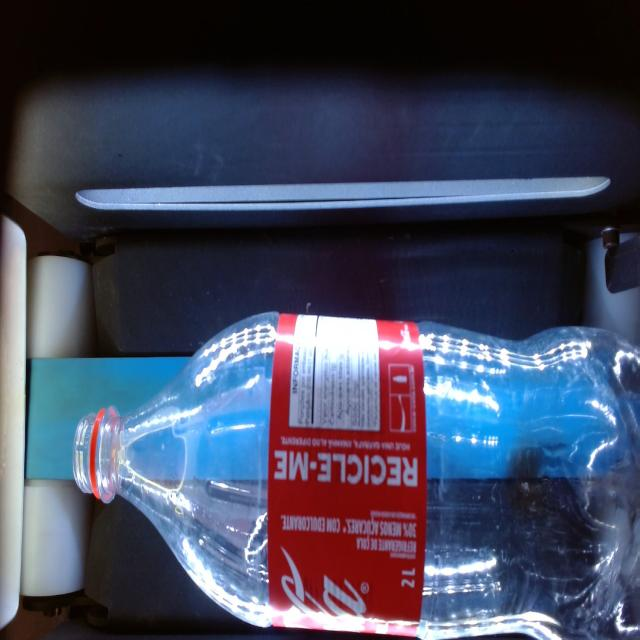bottom: (419, 322, 639, 638)
label: (267, 314, 427, 633)
neck: (73, 313, 279, 627)
